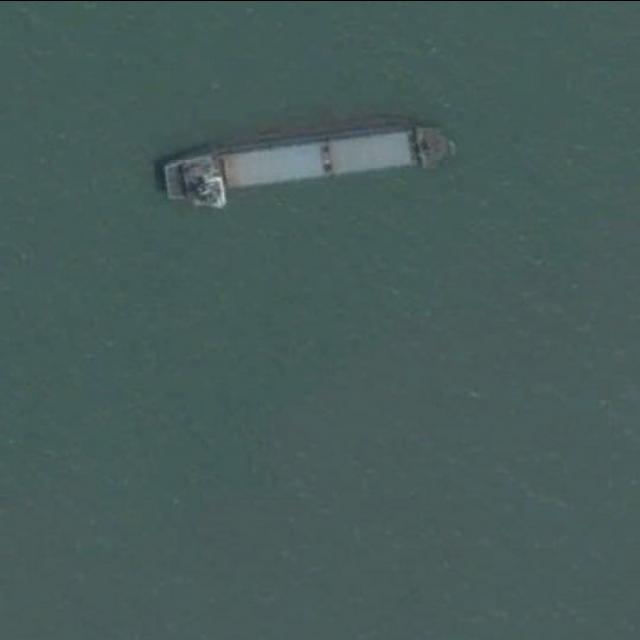ship: (158, 117, 458, 209)
